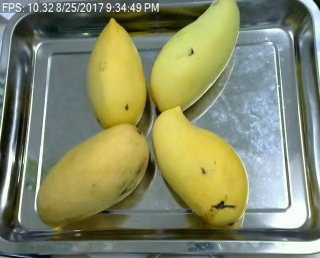Mango: (147, 106, 266, 231), (25, 122, 155, 223), (143, 8, 248, 115), (81, 22, 149, 128)
